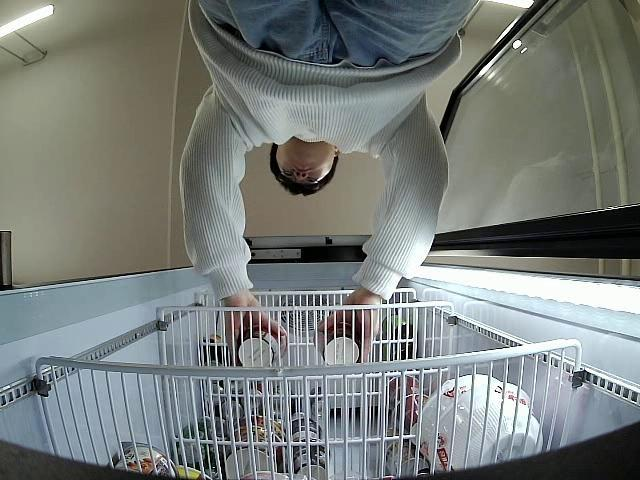02_shinRamen_S: (313, 318, 367, 367), (236, 320, 288, 368)
